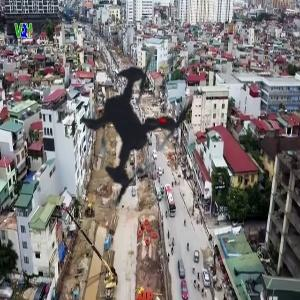drone: (20, 13, 251, 244)
